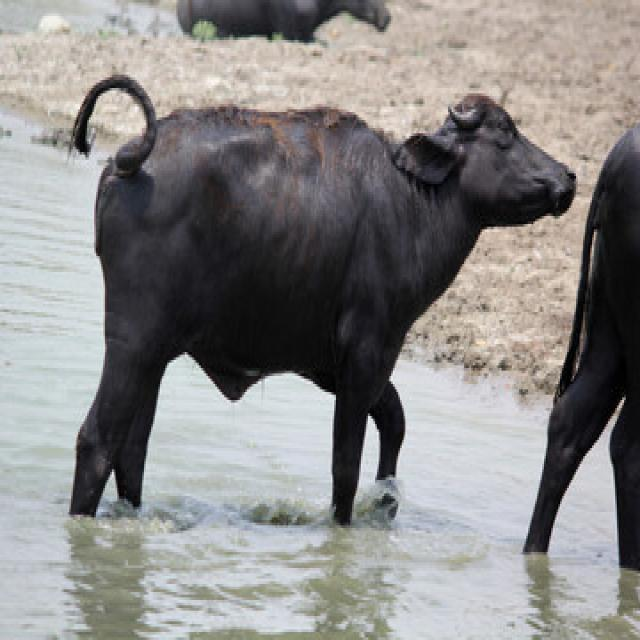Buffalo: (67, 72, 578, 540)
